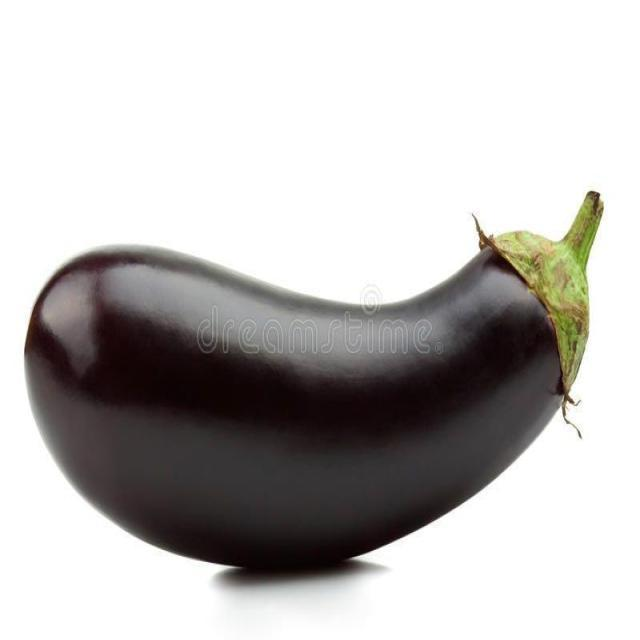Eggplant: (22, 193, 603, 579)
